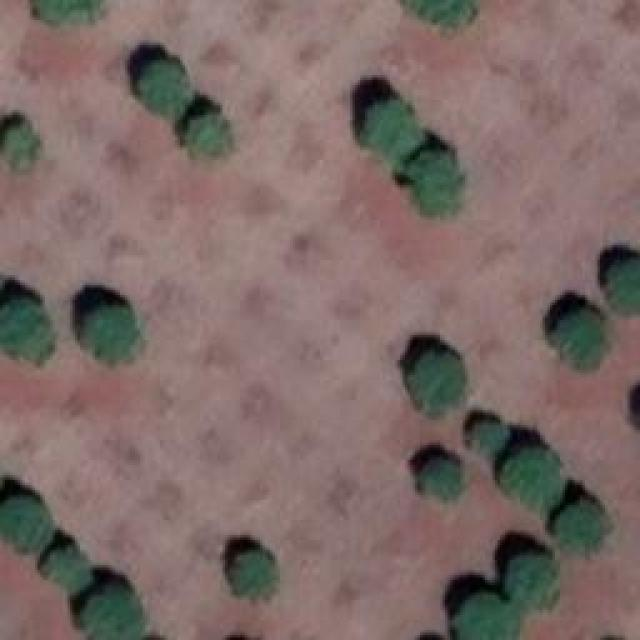Tree: (495, 427, 565, 512), (400, 337, 466, 417), (75, 288, 140, 365), (0, 275, 54, 365), (545, 293, 608, 370), (548, 480, 608, 552), (403, 145, 461, 217), (363, 100, 422, 161), (77, 587, 144, 640), (225, 537, 280, 597), (453, 592, 520, 640), (508, 553, 565, 609), (140, 60, 195, 116), (3, 497, 57, 554), (410, 445, 463, 501), (600, 250, 640, 315), (0, 113, 41, 171), (43, 543, 92, 591), (185, 110, 233, 157), (465, 410, 510, 458), (402, 0, 477, 28), (33, 0, 104, 24), (630, 382, 640, 430)
